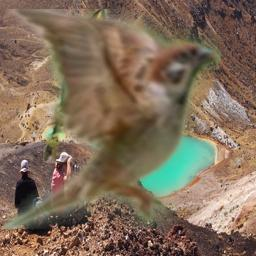Cuckoo: (43, 9, 114, 162)
Sparrow: (2, 9, 221, 229)
